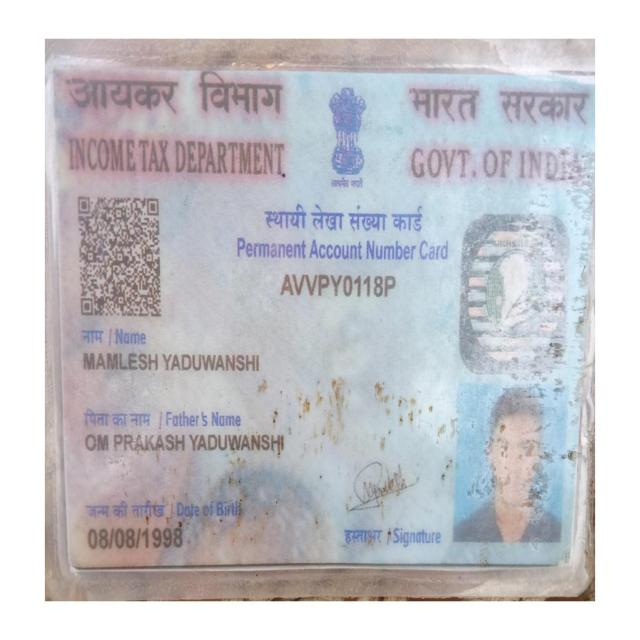pan_card: (52, 60, 592, 561)
